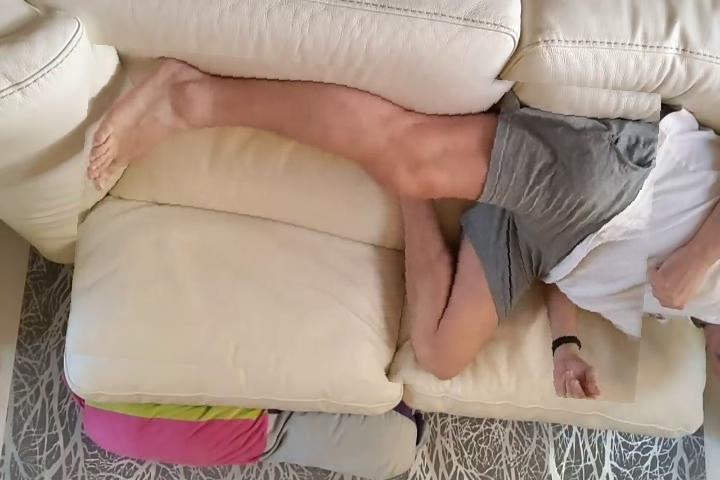lower_body: (73, 57, 656, 392)
